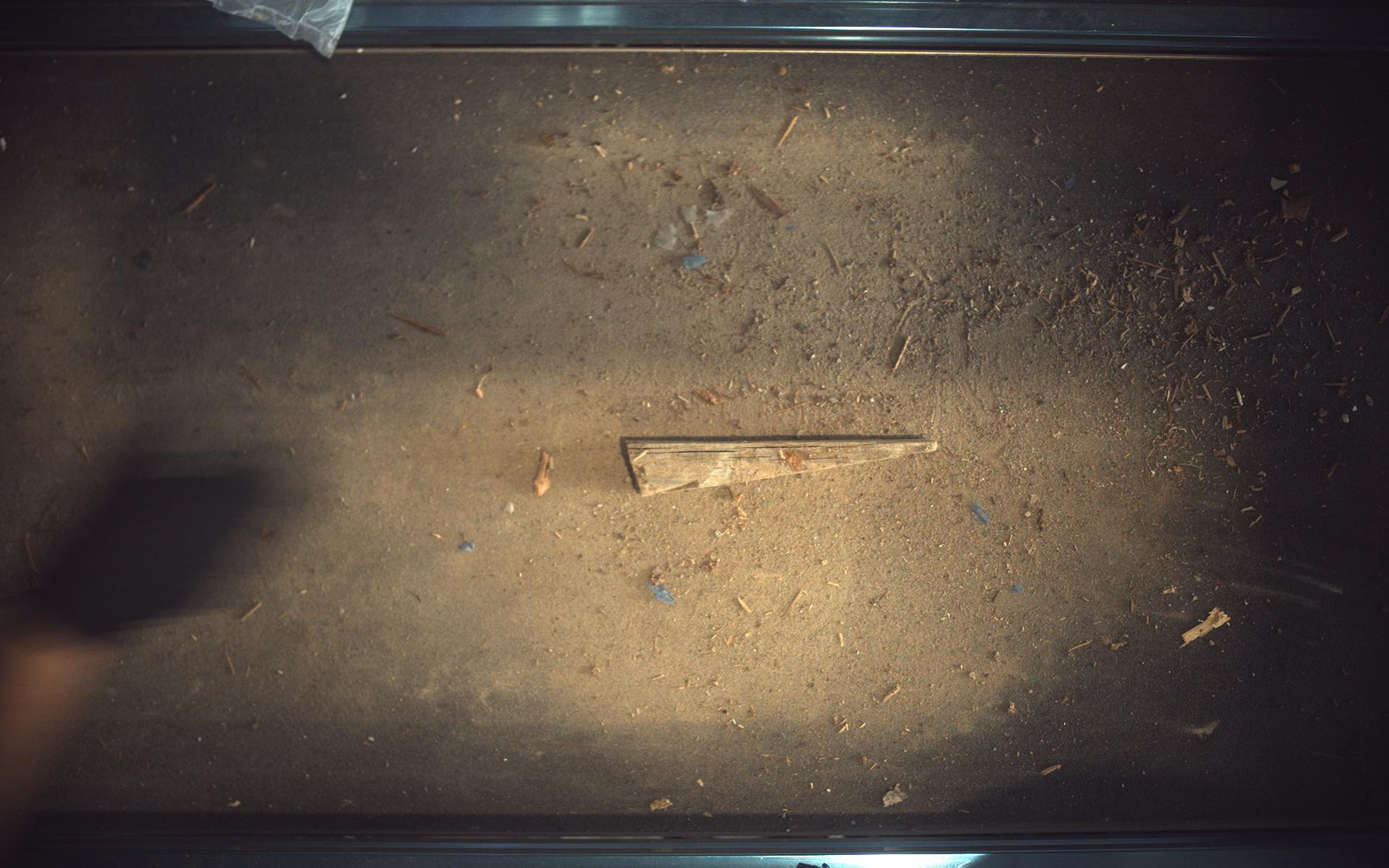wood: (621, 435, 940, 496)
